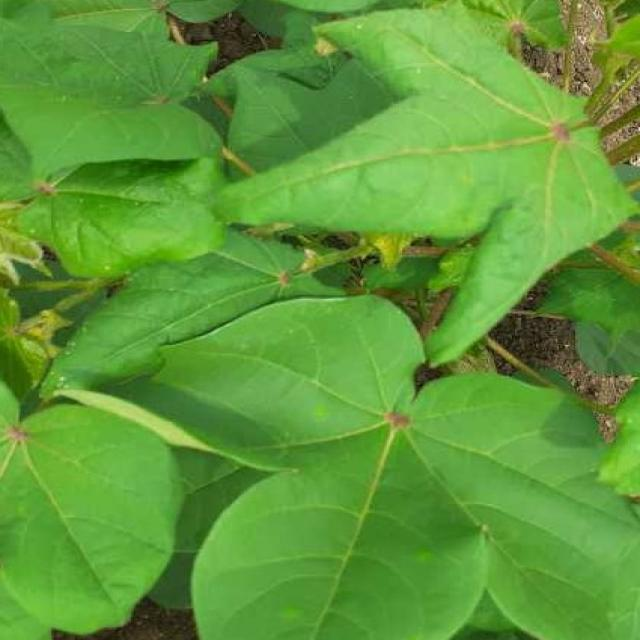Healthy Leaf: (12, 8, 625, 640)
